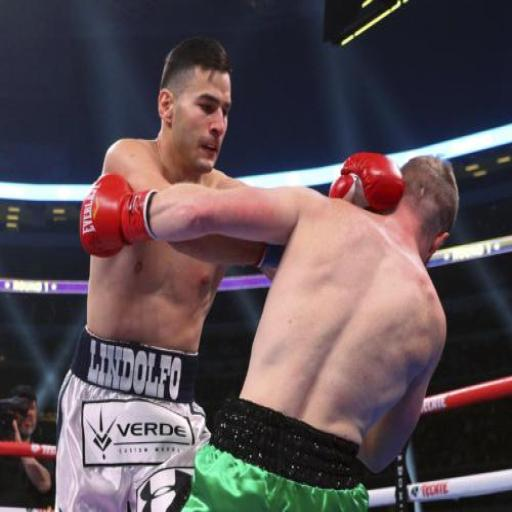boxing: (58, 42, 512, 512)
